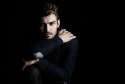male: (34, 8, 60, 41)
